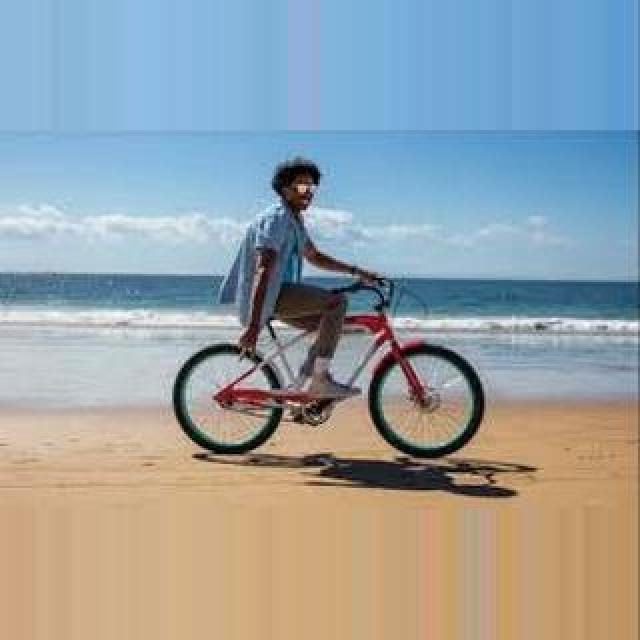MC-Bike: (236, 158, 384, 418)
Person: (170, 276, 488, 462)
